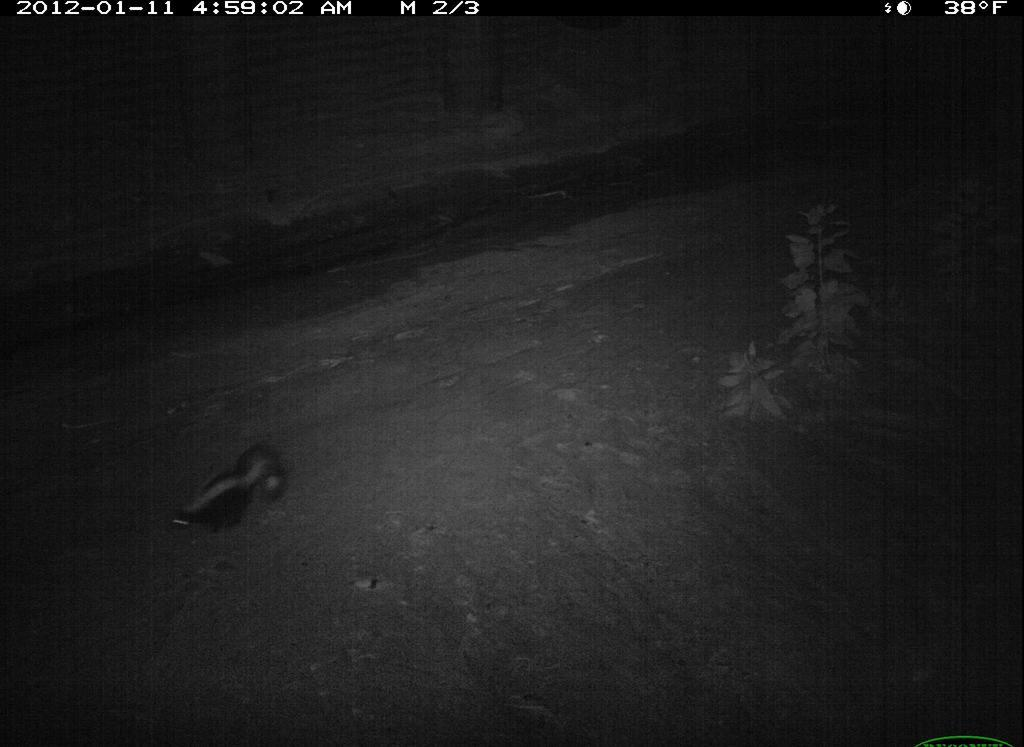skunk: (163, 434, 309, 553)
